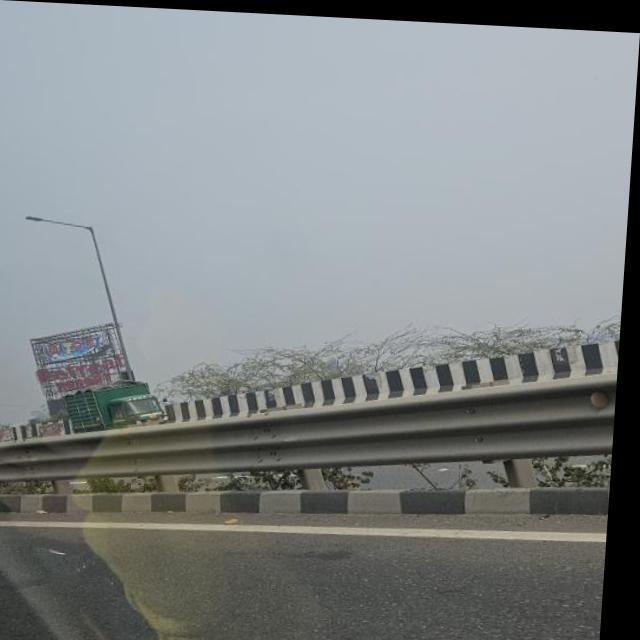covered: (71, 380, 182, 430)
